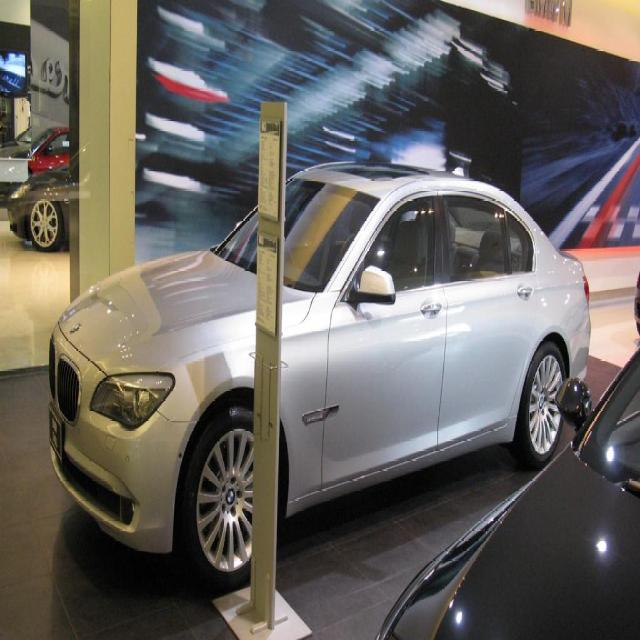other: (44, 167, 592, 592), (370, 273, 640, 639), (7, 166, 72, 248), (0, 118, 71, 179)
